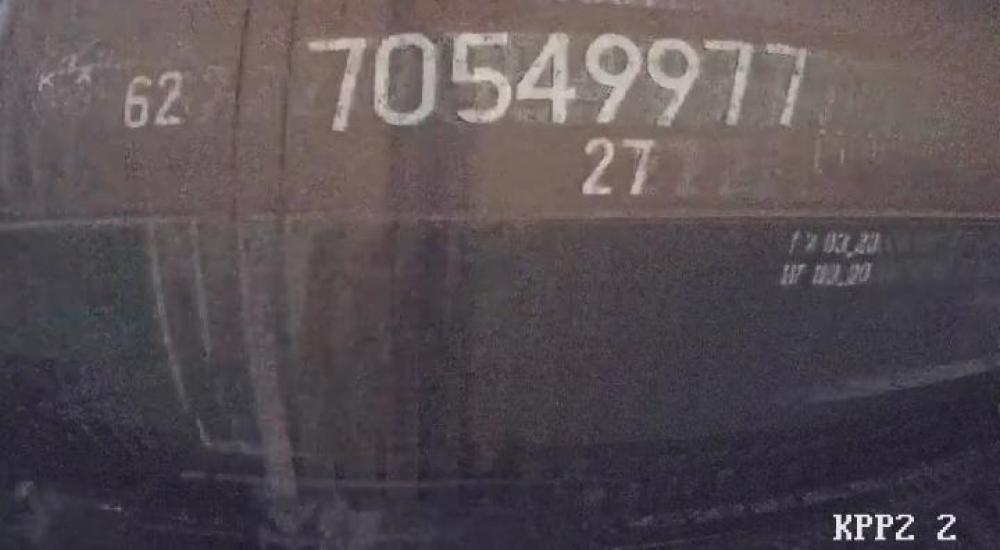Wagon-number: (302, 30, 814, 138)
